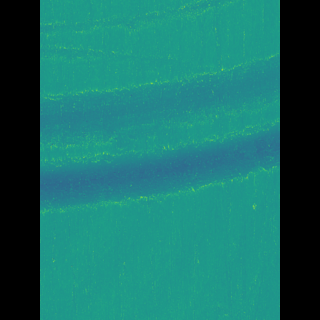Loch: (70, 52, 249, 215), (69, 0, 210, 43)
